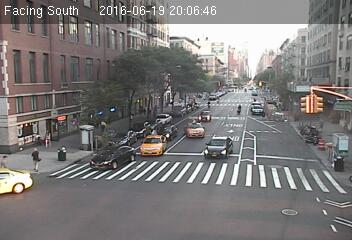neg: (128, 21, 152, 54), (39, 11, 59, 38), (92, 147, 110, 171), (251, 145, 269, 168), (207, 142, 224, 165), (146, 139, 162, 160)
pos: (26, 146, 44, 171), (142, 107, 148, 115)
